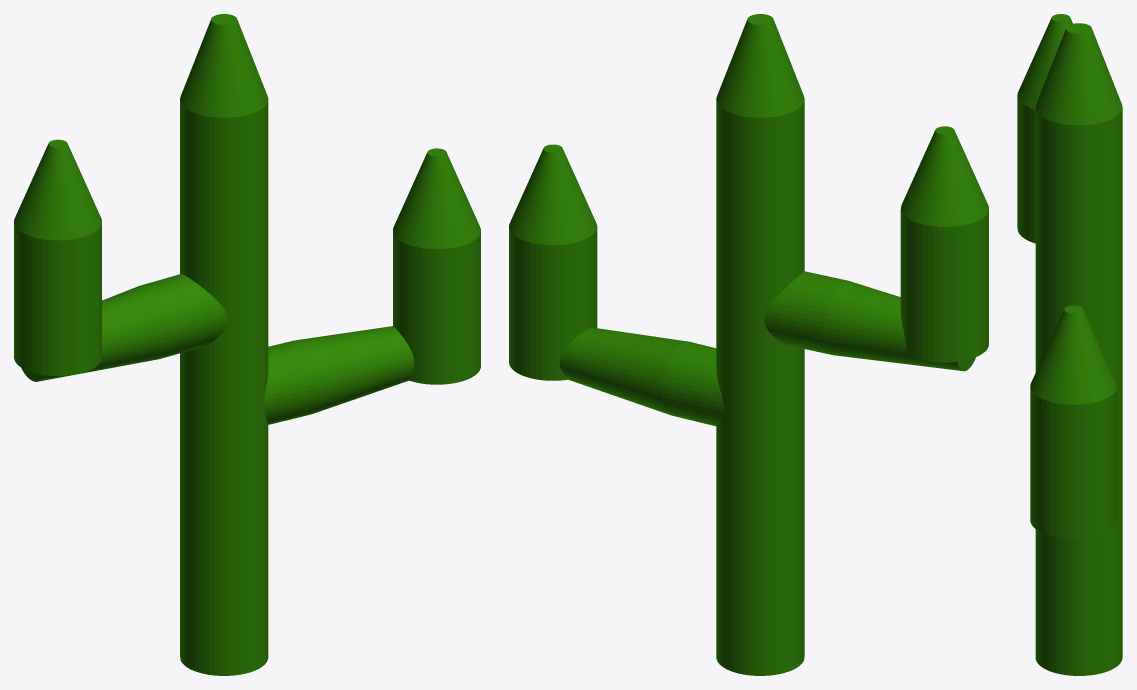
Rendered from Кактус.fbx.
3 renders of one model, left to right at view 1: azimuth 30°, elevation 25°; view 2: azimuth 150°, elevation 25°; view 3: azimuth 270°, elevation 25°, orthographic.
Visible parts, largest first — view 1: Cylinder.002; view 2: Cylinder.002; view 3: Cylinder.002.
Part boxes in pixels (<box>): Cylinder.002: <box>14,14,480,675</box>; Cylinder.002: <box>509,14,988,675</box>; Cylinder.002: <box>1017,14,1122,675</box>.
Bounding box in the file's own units: 1209 × 1596 × 241.
